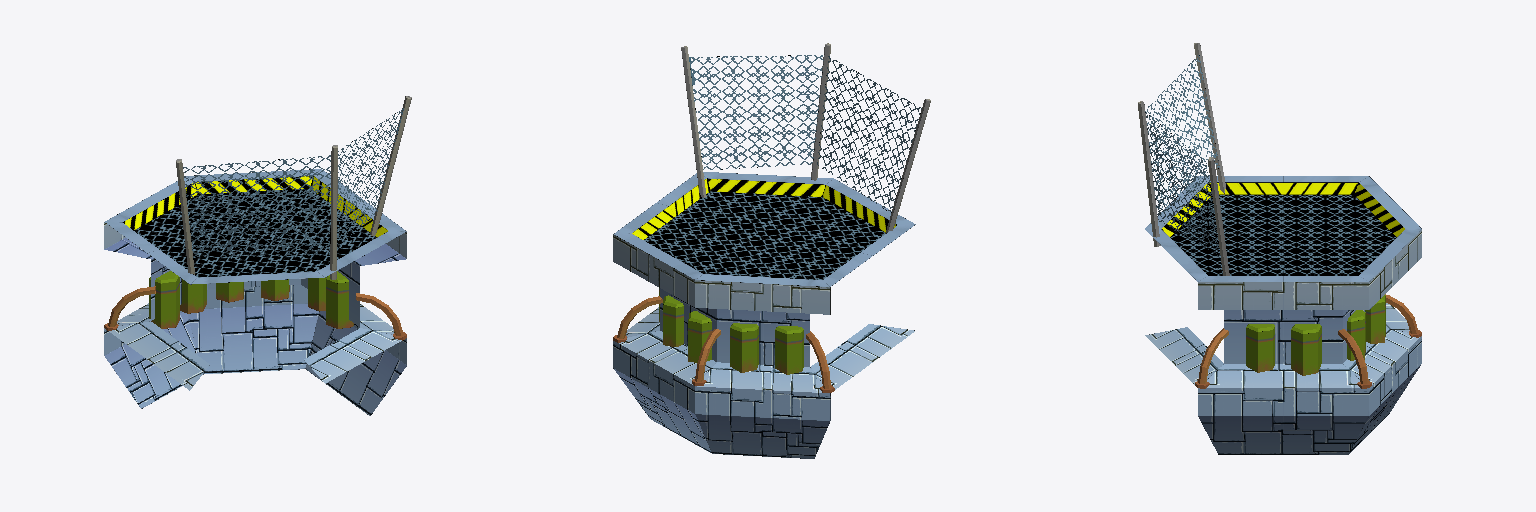
3 renders of one model, left to right at view 1: azimuth 30°, elevation 25°; view 2: azimuth 150°, elevation 25°; view 3: azimuth 270°, elevation 25°, orthographic.
Visible parts, largest first — view 1: JC_ModPanels_EnemyTile_II; view 2: JC_ModPanels_EnemyTile_II; view 3: JC_ModPanels_EnemyTile_II.
Part boxes in pixels (left/top/right/bottom): JC_ModPanels_EnemyTile_II: left=104, top=96, right=411, bottom=415; JC_ModPanels_EnemyTile_II: left=613, top=43, right=930, bottom=458; JC_ModPanels_EnemyTile_II: left=1138, top=43, right=1421, bottom=454.
Size of the model in its own units: 434 by 542 by 441.
1 materials, 1 textured.